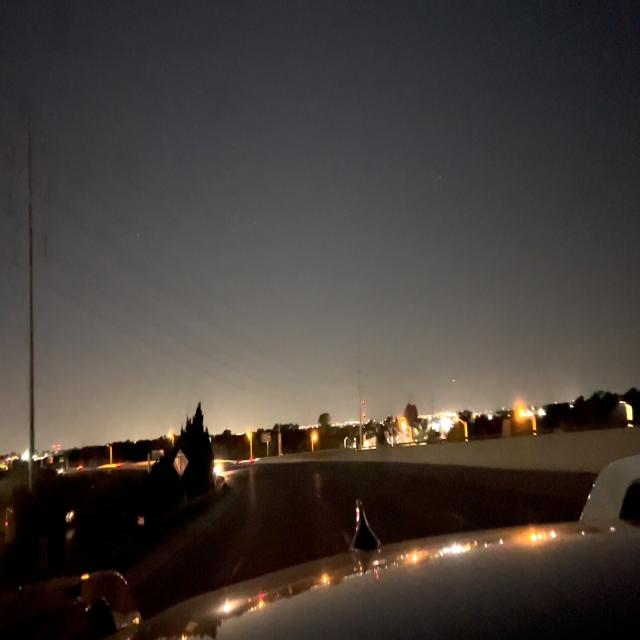back-of-sign: (174, 450, 188, 477)
